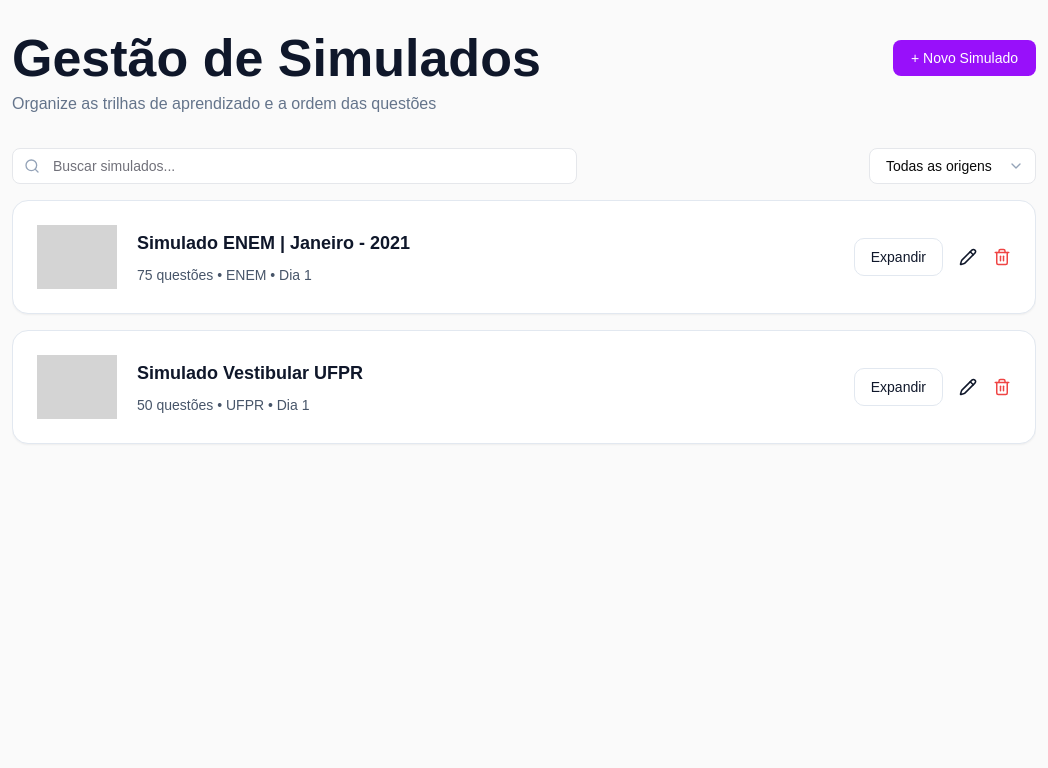
it: ExamsPage › deve carregar e exibir questões ao expandir o simulado
Expected: the heading "Simulado ENEM | Janeiro - 2021" is shown, [137,233,410,253]
Click the button "Expandir" in the row of "Simulado ENEM | Janeiro - 2021" at (898, 257), box [854,238,943,276]
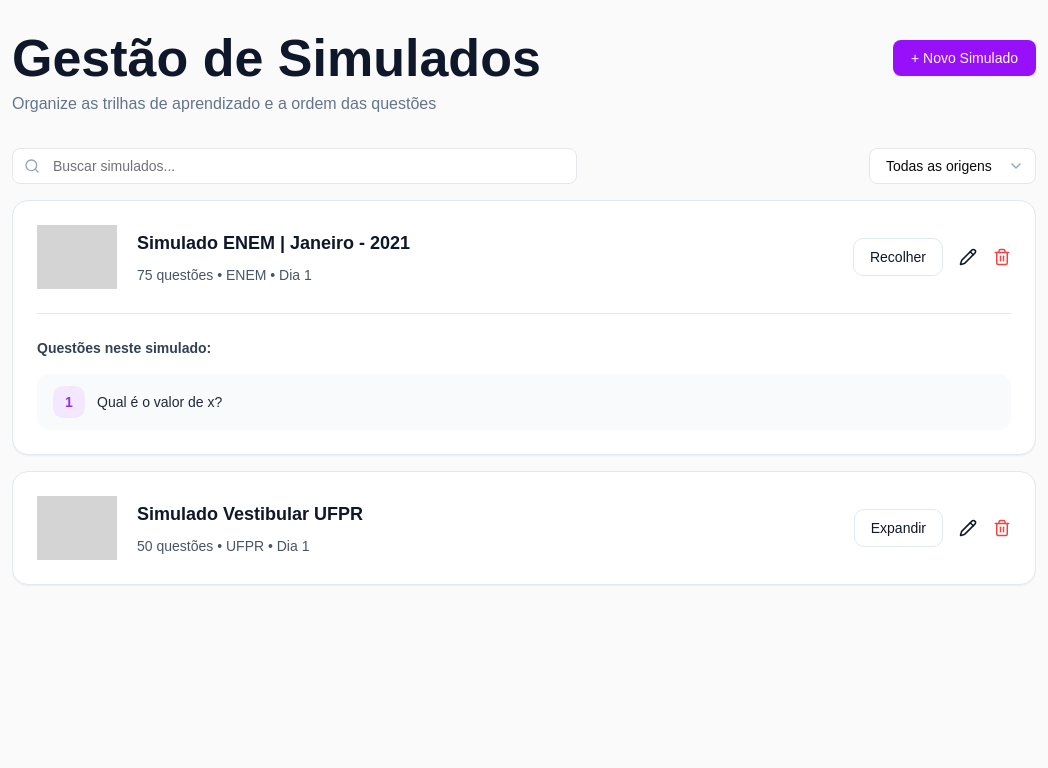
Expected: the text "Qual é o valor de x?" is shown, [97,394,222,410]
